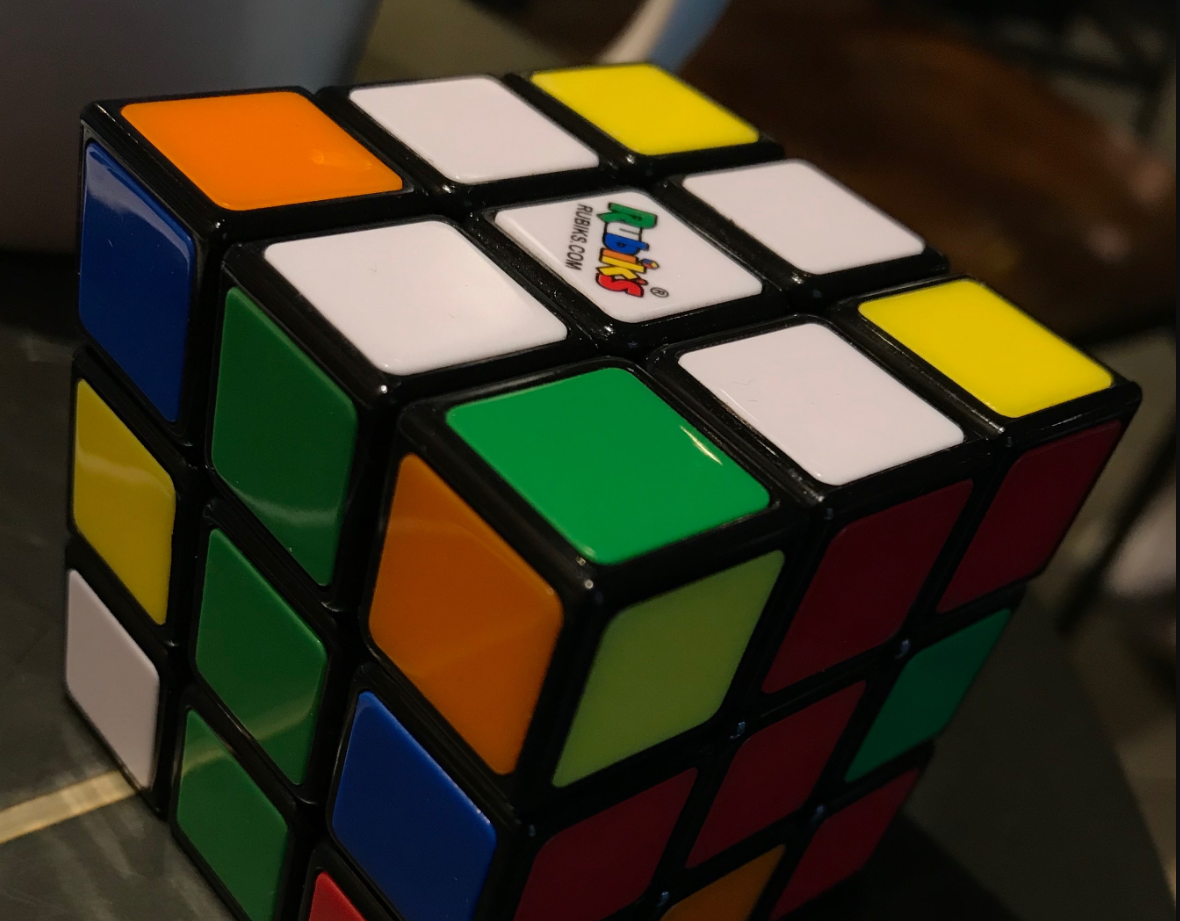cube: (59, 52, 1138, 901)
